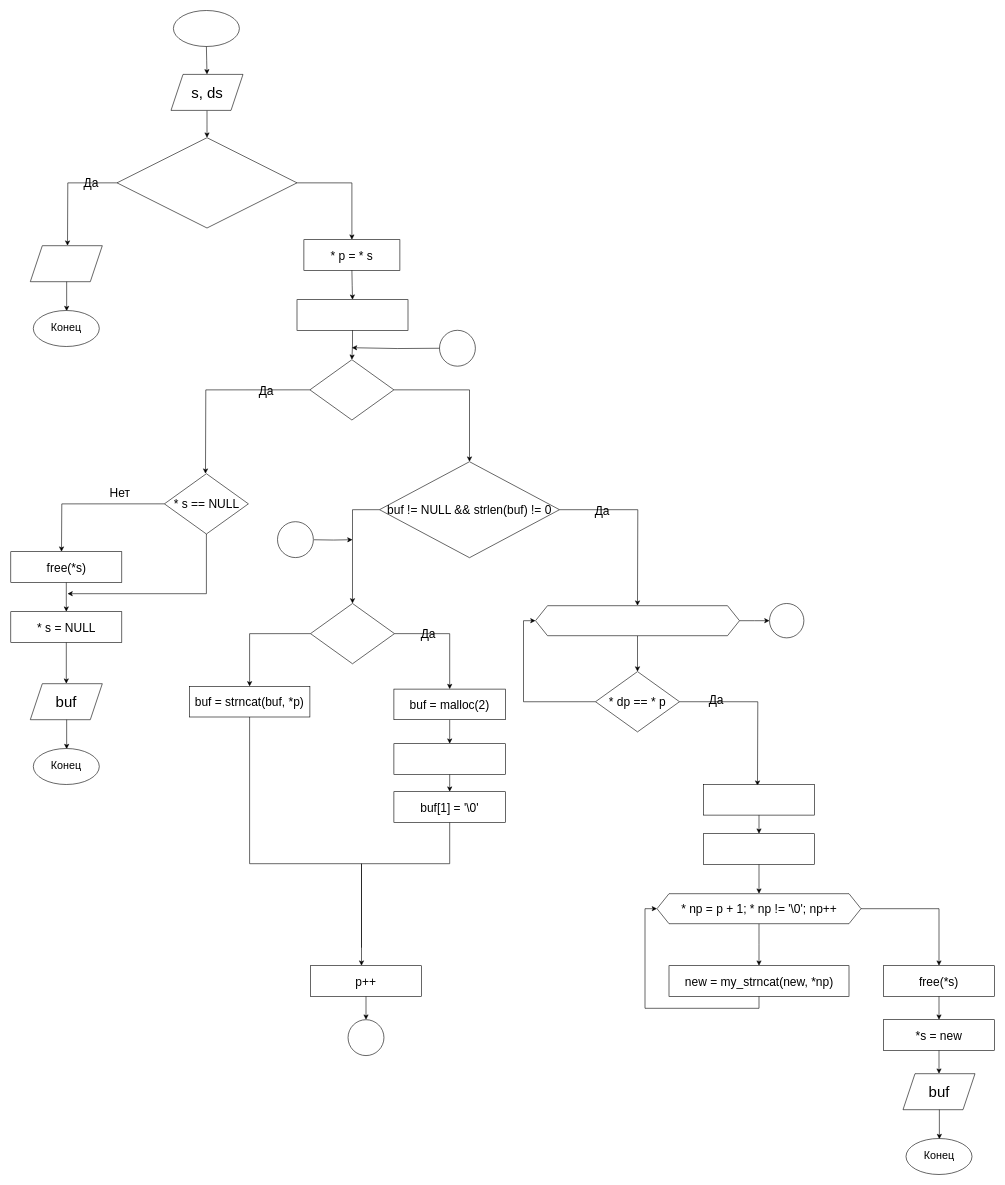
The diagram is 1005 pixels wide and 1185 high, and some of its shapes have lost their labels. Here are the shapes that lost their labels. From the top down, the centre of each, then its label:
At (x=206, y=28): "strtok".
At (x=206, y=182): "*s == NULL || strlen(*s) == 0".
At (x=66, y=263): "NULL".
At (x=352, y=314): "* buf = NULL".
At (x=351, y=389): "* p == '\0'".
At (x=352, y=633): "buf == NULL".
At (x=637, y=620): "* dp = ds; * dp != '\0'; dp++".
At (x=449, y=758): "buf[0] = * p".
At (x=758, y=799): "new = malloc(1)".
At (x=758, y=848): "new[0] = '\0'".
